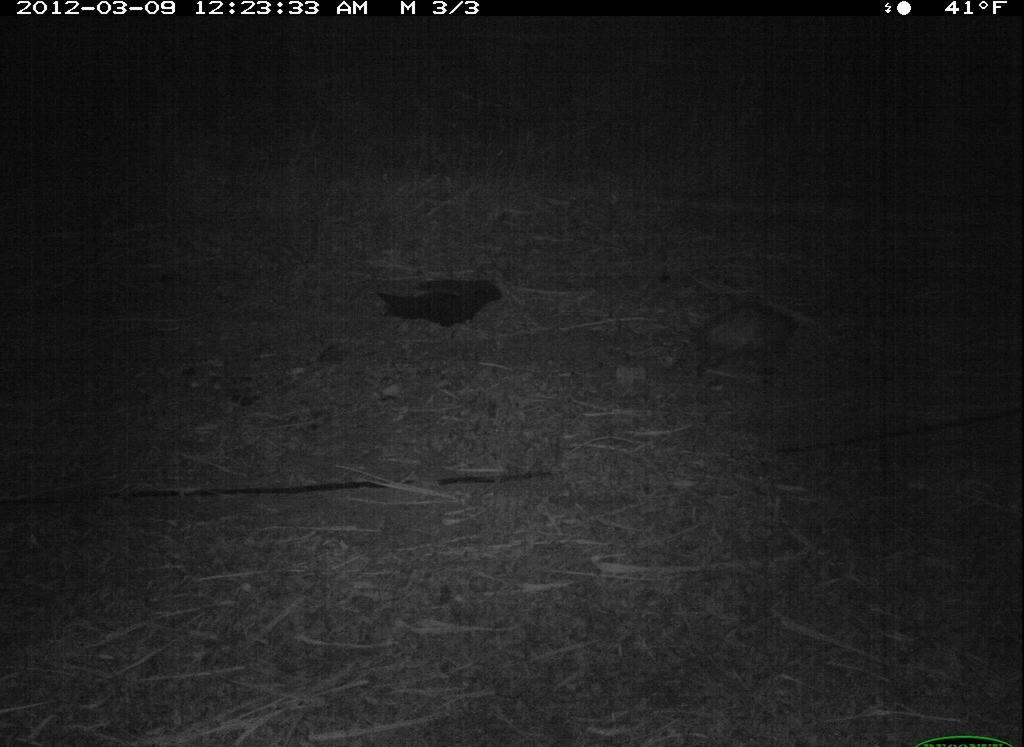opossum: (662, 281, 815, 379)
